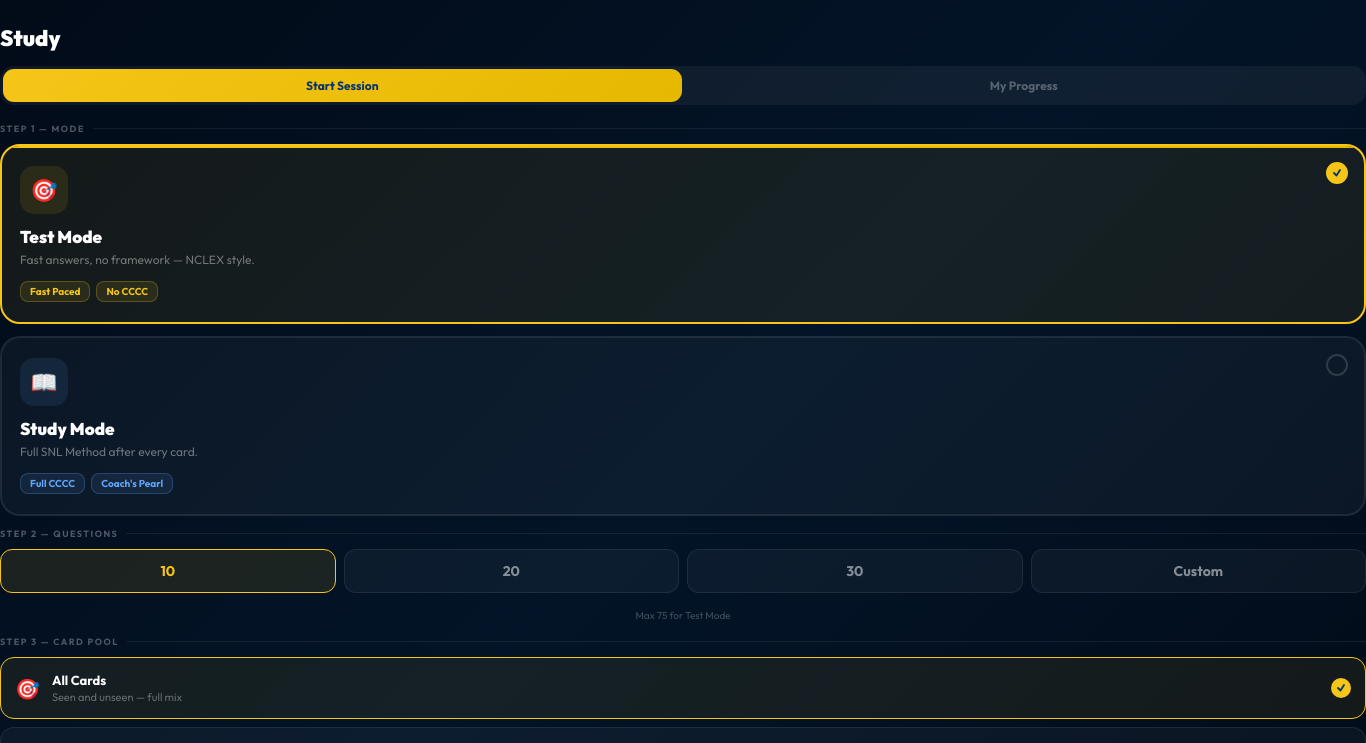
Test: StudyTab › displays session history entries in progress view
Click the button "My Progress" at {"x": 1024, "y": 86}, box [684,69,1363,102]
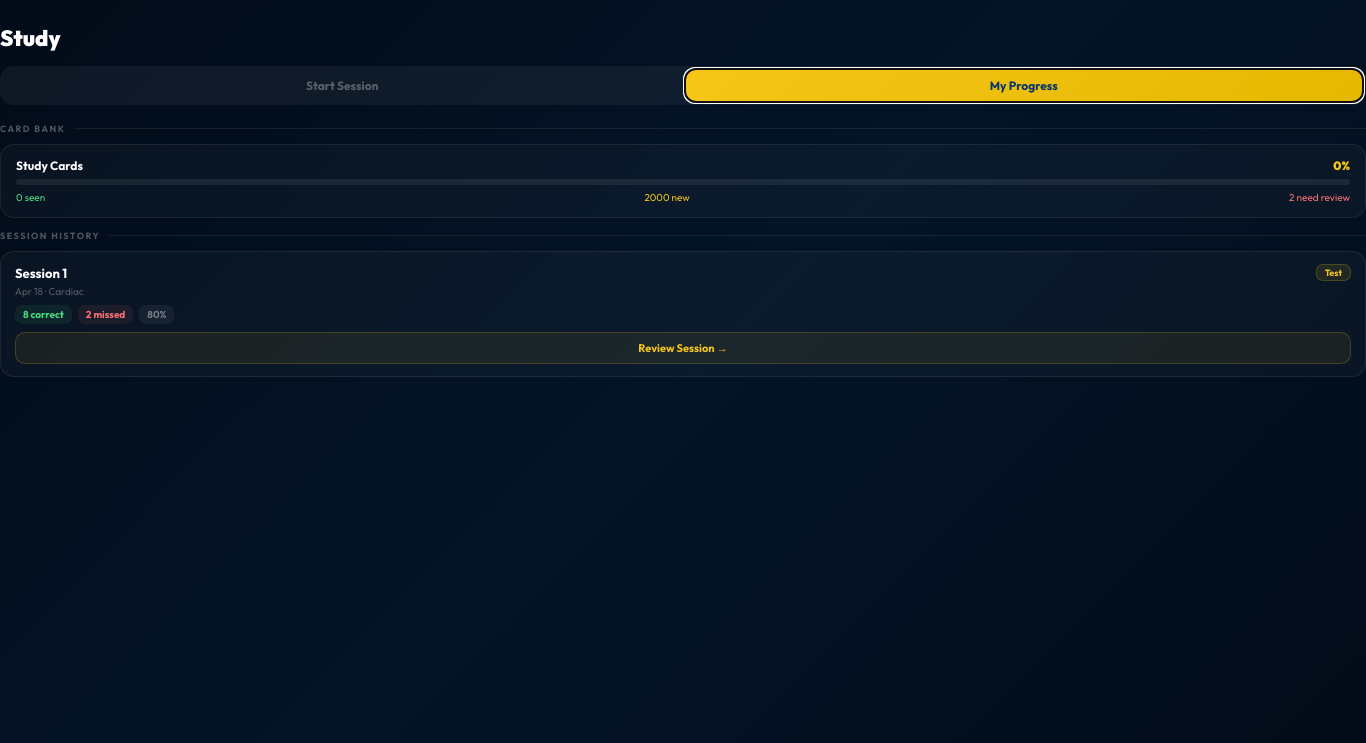
Expected: the text "Session 1" is shown, [15,264,67,280]
Expected: the button "Review Session →" is shown, [15,332,1351,364]
